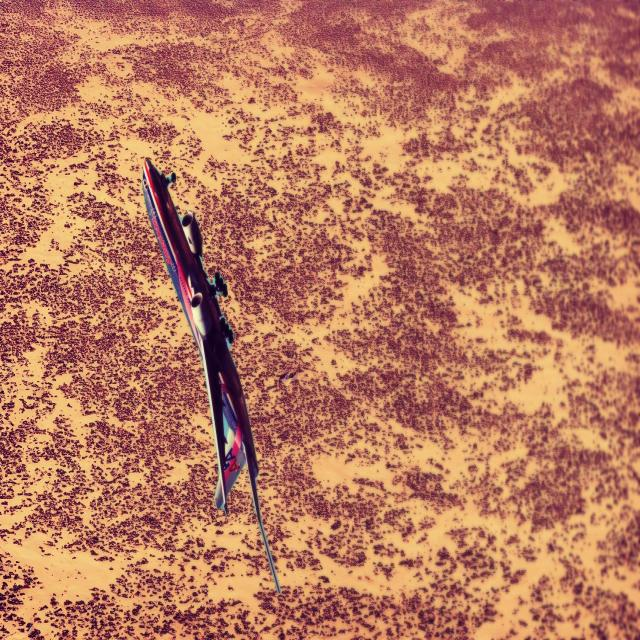airplane: (141, 156, 281, 595)
